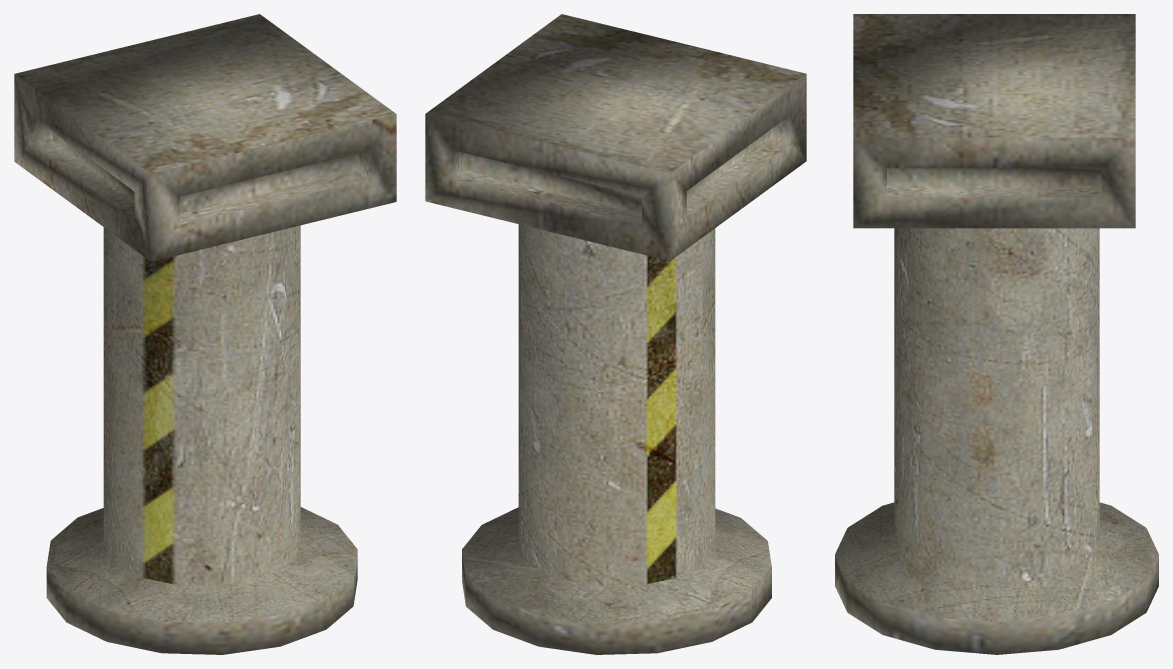
File: pillar.fbx
The picture shows the model from 3 angles, left to right: view 1: azimuth 30°, elevation 25°; view 2: azimuth 150°, elevation 25°; view 3: azimuth 270°, elevation 25°; orthographic projection. The views are drawn at different scales.
Visible parts, largest first — view 1: Mesh; view 2: Mesh; view 3: Mesh.
Part boxes in pixels (x1,y1,x2,y2): Mesh: (14,14,396,654); Mesh: (425,14,806,654); Mesh: (835,14,1158,654).
Size of the model in its own units: 63.04 by 110 by 63.04.
